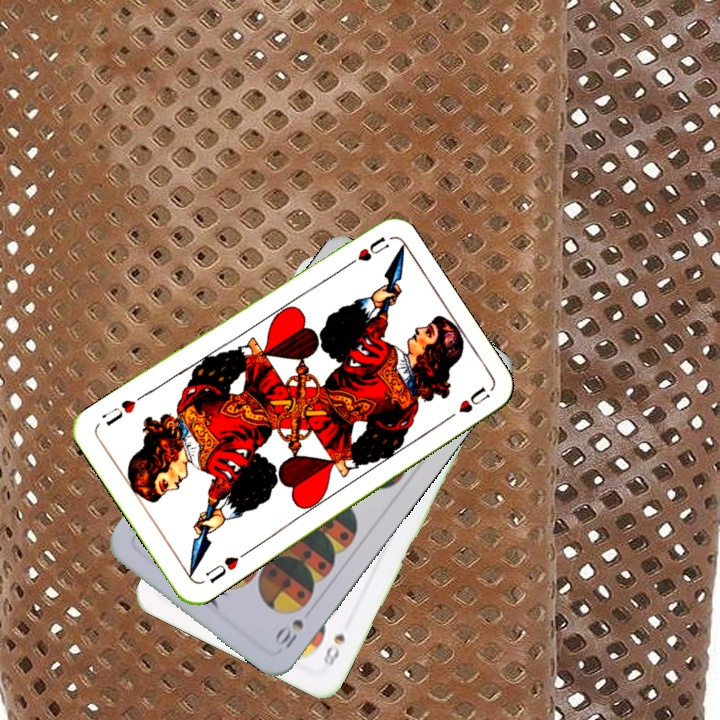HU: (338, 233, 392, 272), (201, 552, 242, 586)
S10: (269, 615, 307, 651)
S8: (319, 629, 348, 672)
